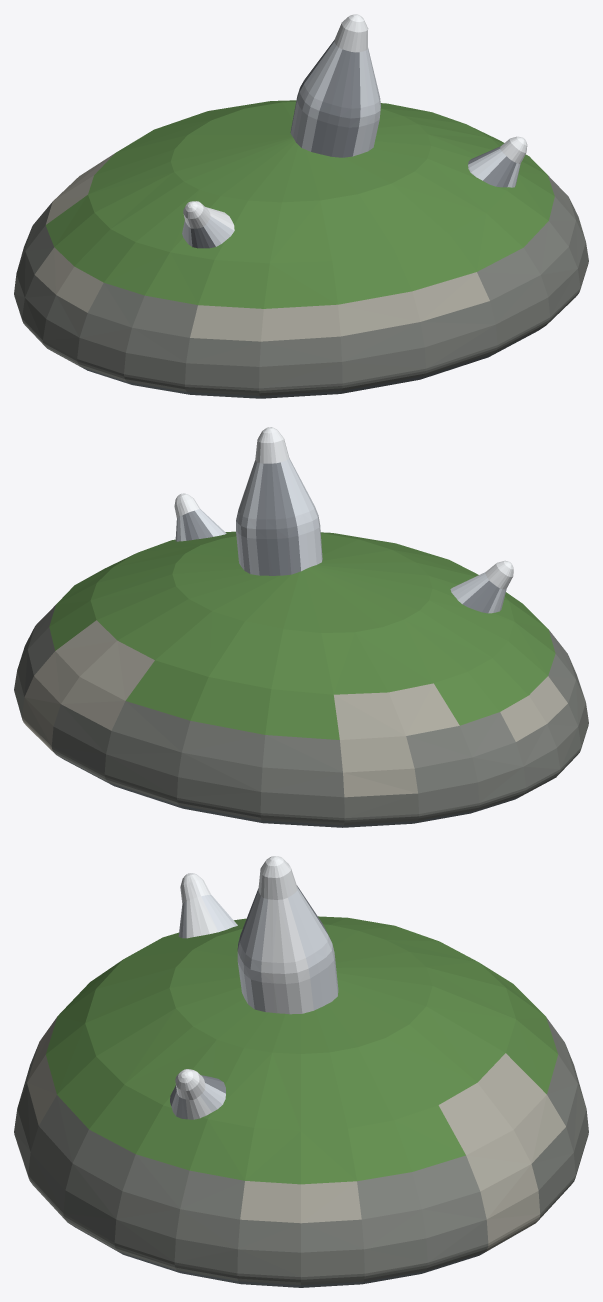
File: OreVein1.obj
3 views of the same model, one above another, from view 1: azimuth 30°, elevation 25°; view 2: azimuth 150°, elevation 25°; view 3: azimuth 270°, elevation 25° (orthographic). The views are drawn at different scales.
Bounding box in the file's own units: 3.81 × 2.18 × 3.18.
